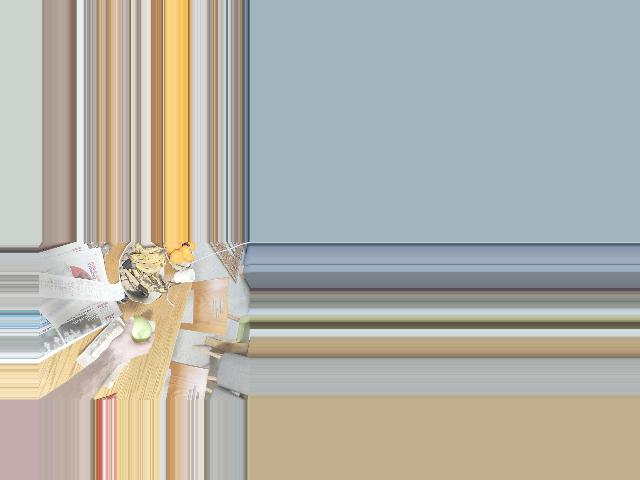apple: (122, 315, 151, 348)
